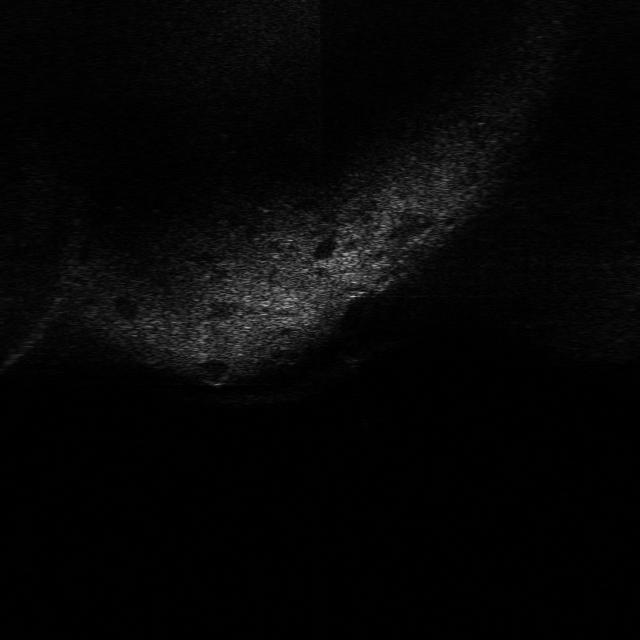ball: (331, 336, 372, 366)
